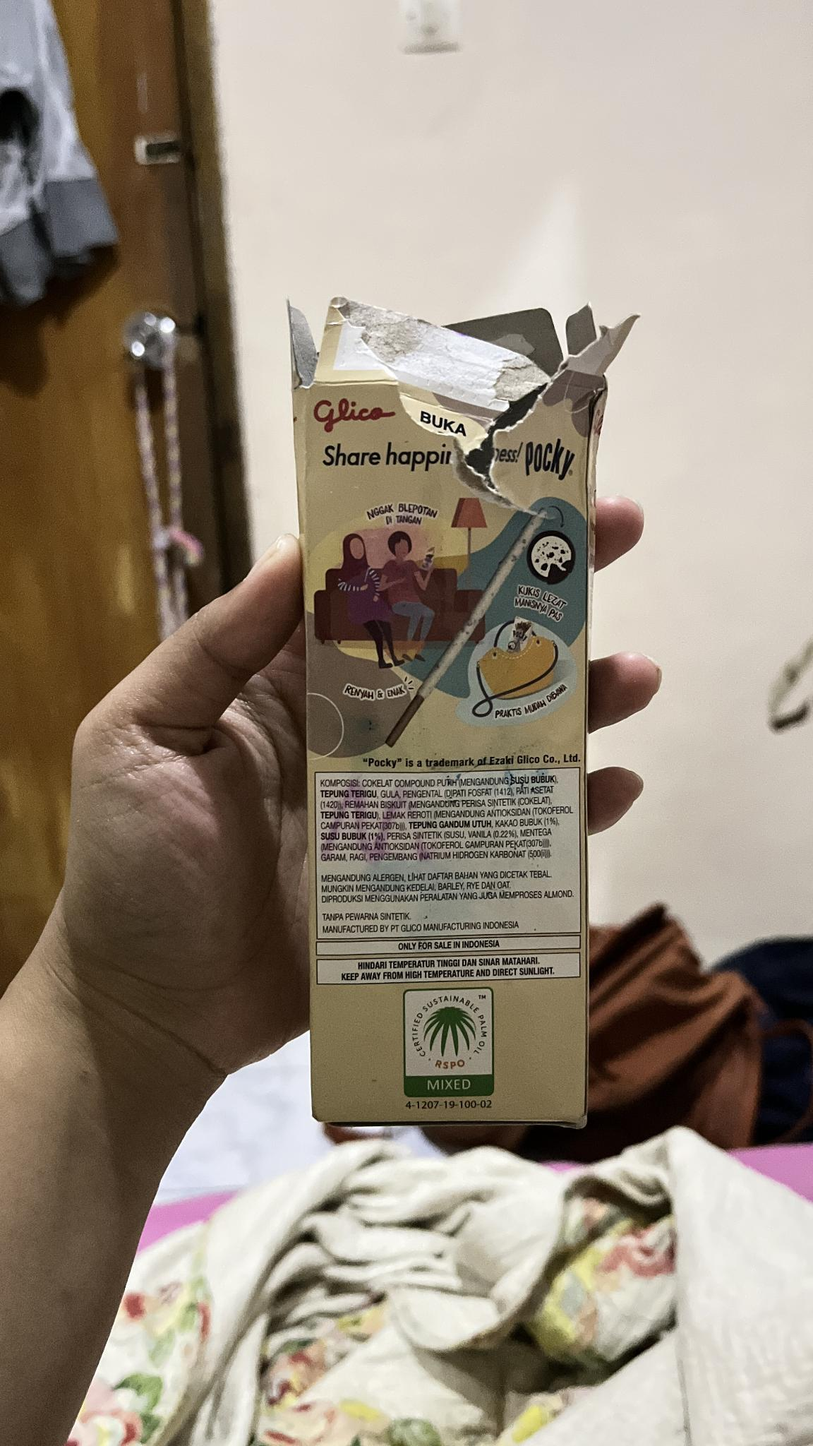Kertas: (298, 373, 595, 1130)
